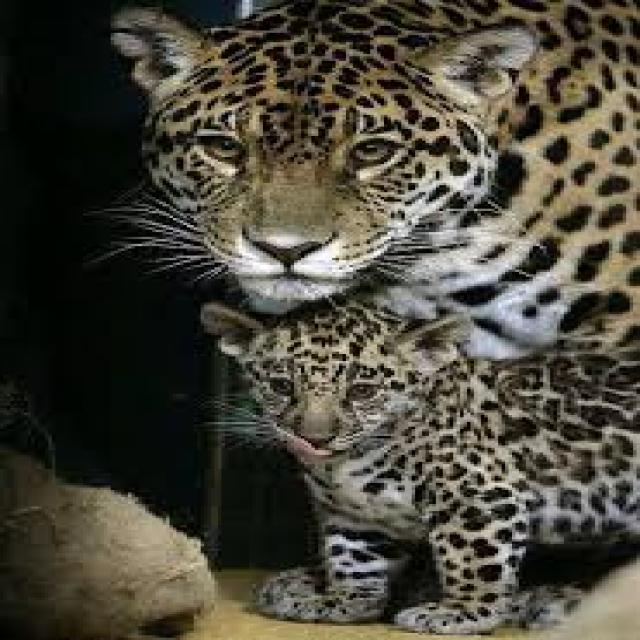Jaguar: (107, 5, 637, 314), (183, 300, 640, 640)
